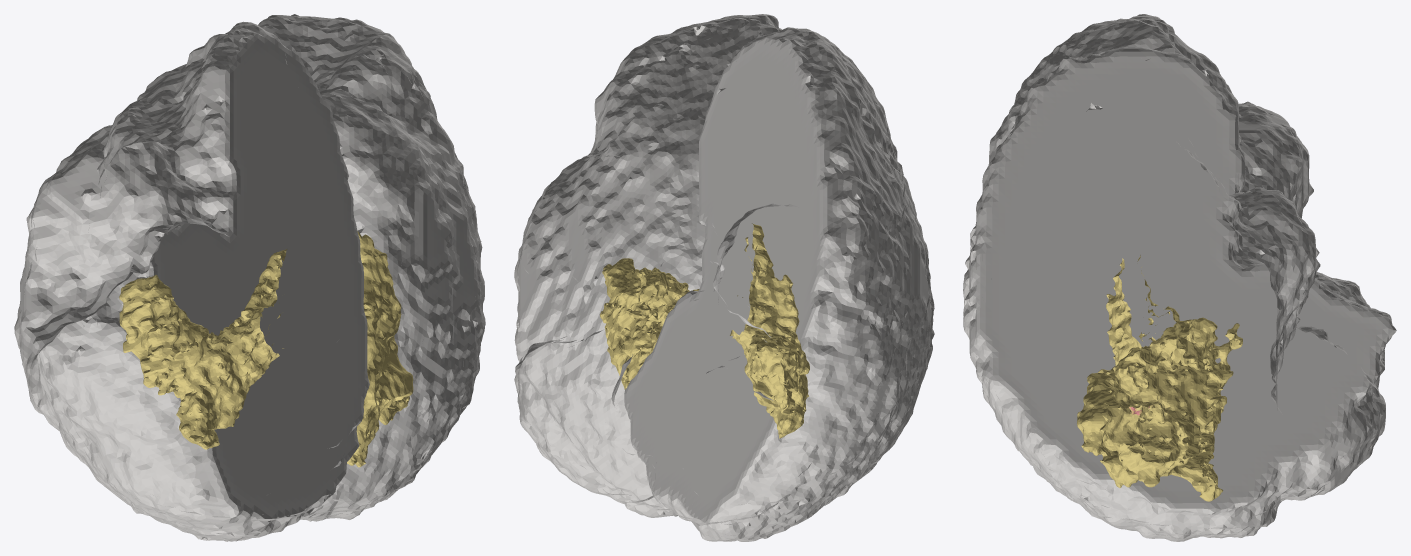
The picture shows the model from 3 angles, left to right: view 1: azimuth 30°, elevation 25°; view 2: azimuth 150°, elevation 25°; view 3: azimuth 270°, elevation 25°; orthographic projection. The views are drawn at different scales.
Visible parts, largest first — view 1: brain_left, brain_right, edema; view 2: brain_left, brain_right, edema; view 3: brain_right, edema, brain_left.
Boxes of the visible parts, left/top/right/bottom form: brain_left: left=14, top=21, right=369, bottom=541; brain_right: left=258, top=14, right=485, bottom=521; edema: left=119, top=231, right=413, bottom=467; brain_left: left=624, top=27, right=934, bottom=541; brain_right: left=514, top=14, right=781, bottom=517; edema: left=600, top=223, right=809, bottom=438; brain_right: left=963, top=47, right=1396, bottom=541; edema: left=1077, top=255, right=1242, bottom=501; brain_left: left=963, top=14, right=1391, bottom=387.
Size of the model in its own units: 136 by 166 by 136.
